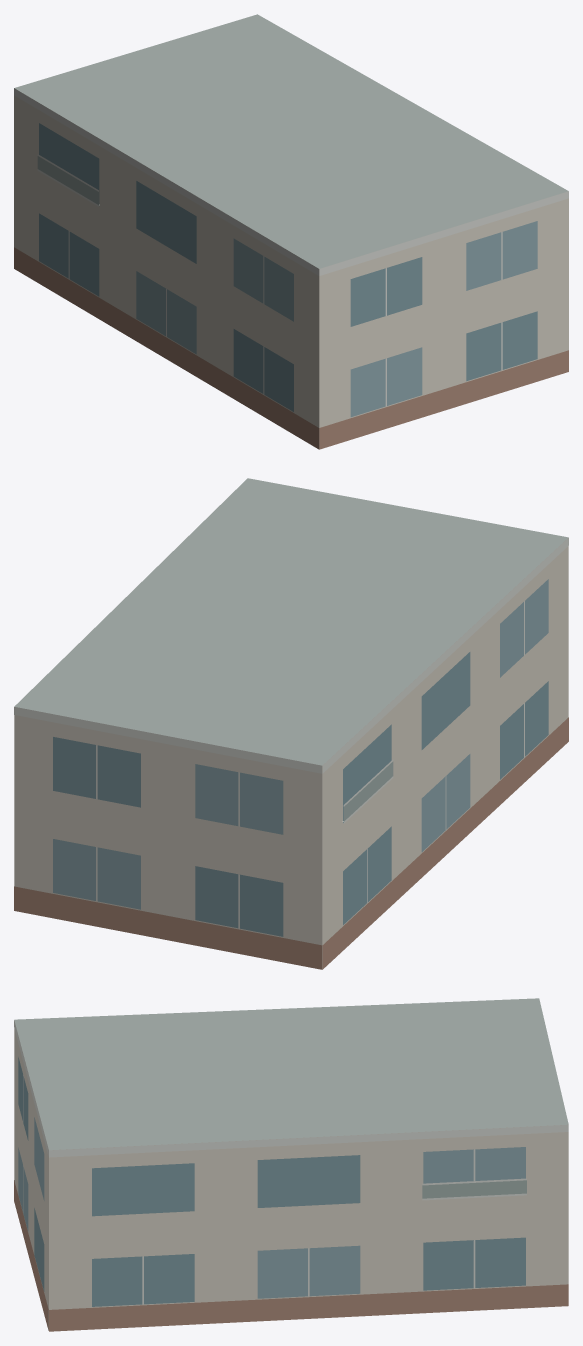
File: survey-upis-32949464.glb
3 renders of one model, top to bottom at view 1: azimuth 30°, elevation 25°; view 2: azimuth 150°, elevation 25°; view 3: azimuth 270°, elevation 25°, orthographic. The views are drawn at different scales.
Parts seen in each view (by area): view 1: survey-upis-32949464.tmp; view 2: survey-upis-32949464.tmp; view 3: survey-upis-32949464.tmp.
Part boxes in pixels (x1=…): survey-upis-32949464.tmp: x1=14, y1=14, x2=568, y2=449; survey-upis-32949464.tmp: x1=14, y1=478, x2=568, y2=969; survey-upis-32949464.tmp: x1=14, y1=998, x2=568, y2=1331.
Size of the model in its own units: 10.98 by 6.1 by 16.92.
